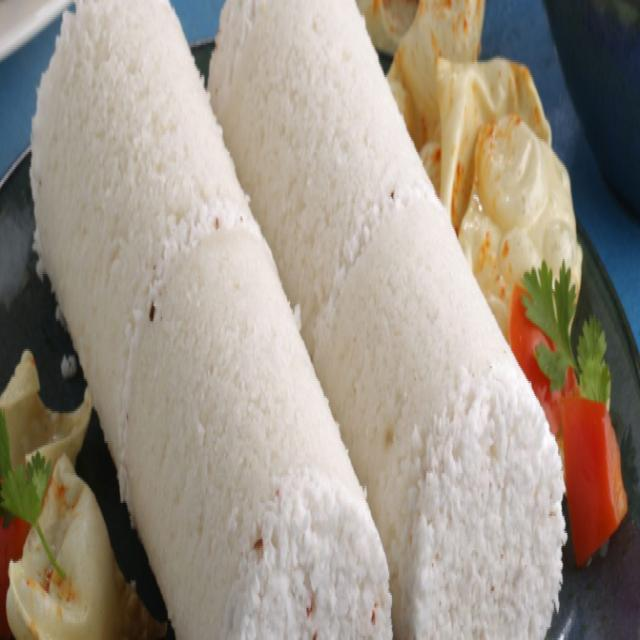RICE: (28, 0, 559, 638)
